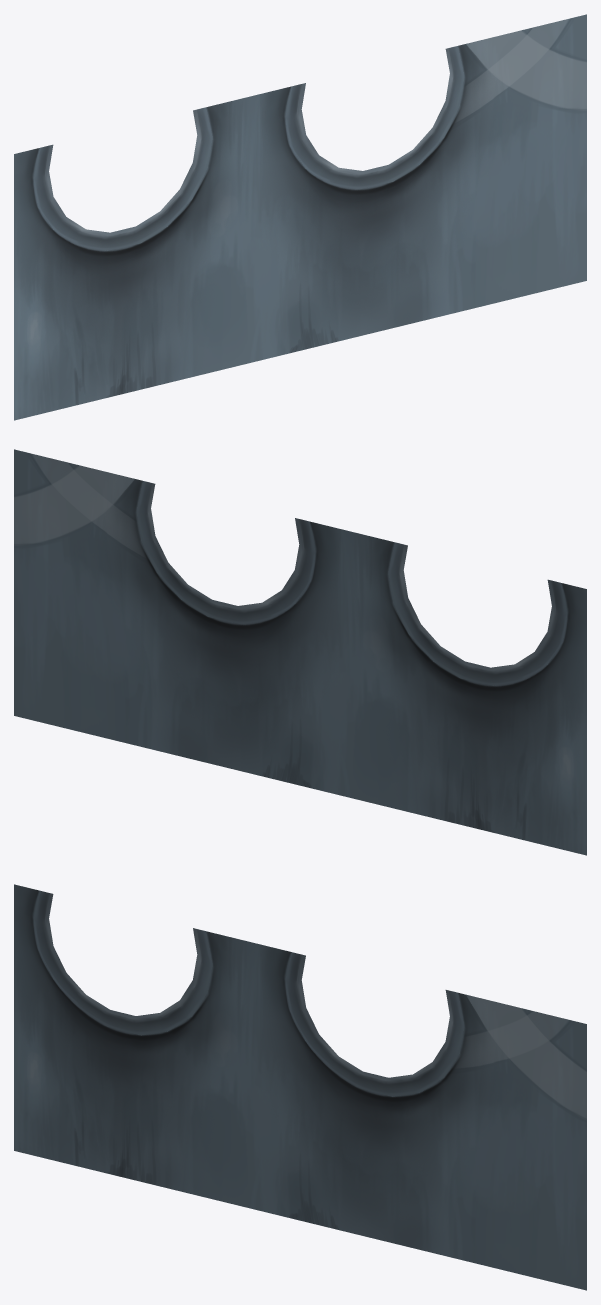
Rendered from SM_wall.FBX.
3 views of the same model, one above another, from view 1: azimuth 30°, elevation 25°; view 2: azimuth 150°, elevation 25°; view 3: azimuth 330°, elevation 25° (orthographic).
Visible parts, largest first — view 1: wall; view 2: wall; view 3: wall.
Boxes of the visible parts, x1=… form: wall: x1=14, y1=14, x2=586, y2=420; wall: x1=14, y1=449, x2=586, y2=855; wall: x1=14, y1=884, x2=586, y2=1290.
Bounding box in the file's own units: 4320 × 0.000313 × 1920.
1 material, 1 textured.
